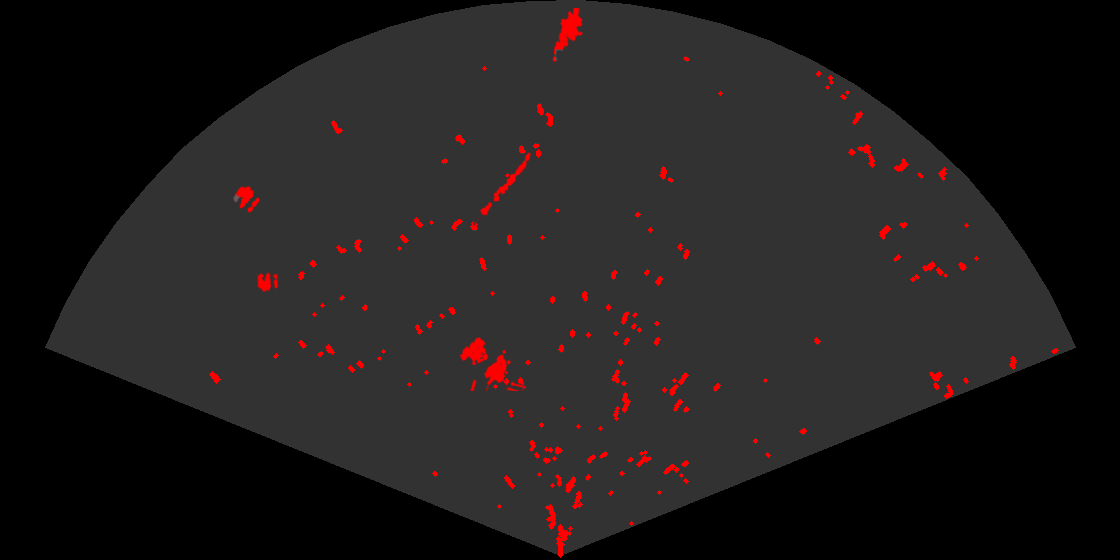ball: (232, 184, 261, 214), (256, 271, 280, 294)
cage: (458, 336, 526, 391)
chain: (473, 151, 532, 226)
frogman: (551, 8, 585, 63)
